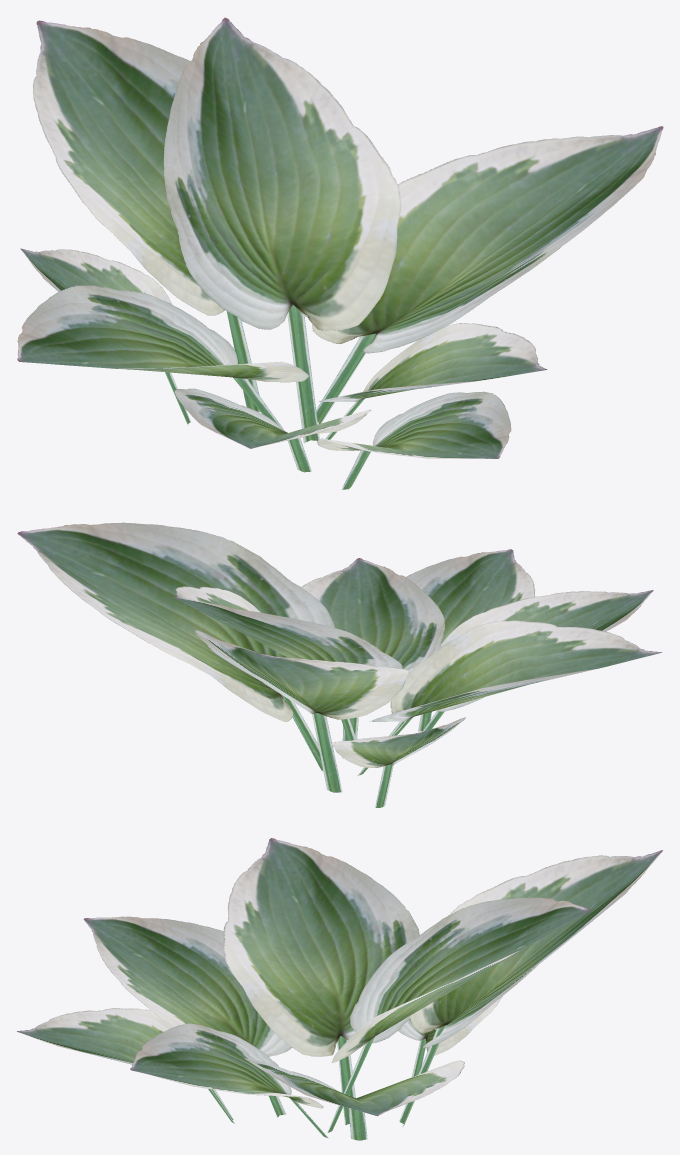
The model's file is plant_small_wg_04X.fbx.
3 renders of one model, top to bottom at view 1: azimuth 30°, elevation 25°; view 2: azimuth 150°, elevation 25°; view 3: azimuth 270°, elevation 25°, orthographic. The views are drawn at different scales.
Visible parts, largest first — view 1: plant_small_wg_04X; view 2: plant_small_wg_04X; view 3: plant_small_wg_04X.
Boxes of the visible parts, x1,y1,x2,y2 form: plant_small_wg_04X: (17,17,663,489); plant_small_wg_04X: (17,522,661,807); plant_small_wg_04X: (17,838,662,1140).
Size of the model in its own units: 142 by 56.49 by 133.
